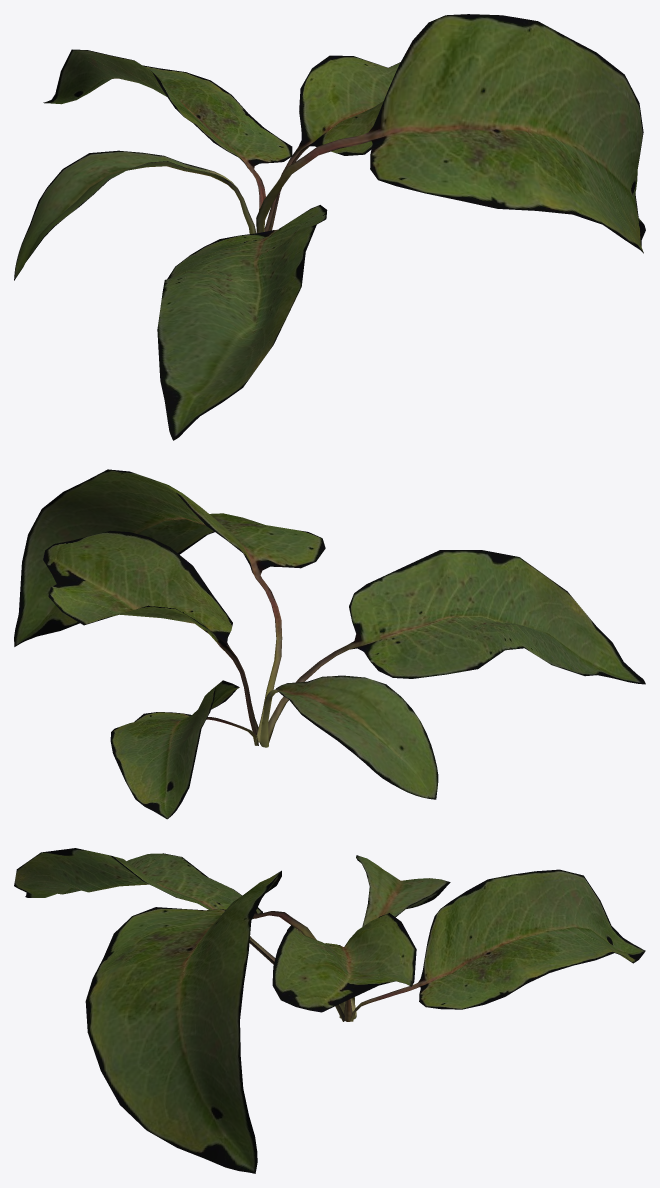
The model's file is weed_plant_02_c.gltf.
The picture shows the model from 3 angles, top to bottom: view 1: azimuth 30°, elevation 25°; view 2: azimuth 150°, elevation 25°; view 3: azimuth 270°, elevation 25°; orthographic projection. The views are drawn at different scales.
Visible parts, largest first — view 1: weed_plant_02_c_LOD0; view 2: weed_plant_02_c_LOD0; view 3: weed_plant_02_c_LOD0.
Boxes of the visible parts, left/top/right/bottom form: weed_plant_02_c_LOD0: left=14, top=14, right=645, bottom=440; weed_plant_02_c_LOD0: left=14, top=469, right=645, bottom=819; weed_plant_02_c_LOD0: left=14, top=848, right=645, bottom=1173.
Bounding box in the file's own units: 0.1424 × 0.0549 × 0.1435.
1 material, 1 textured.
